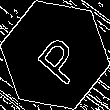P_NW: (25, 24, 85, 86)
